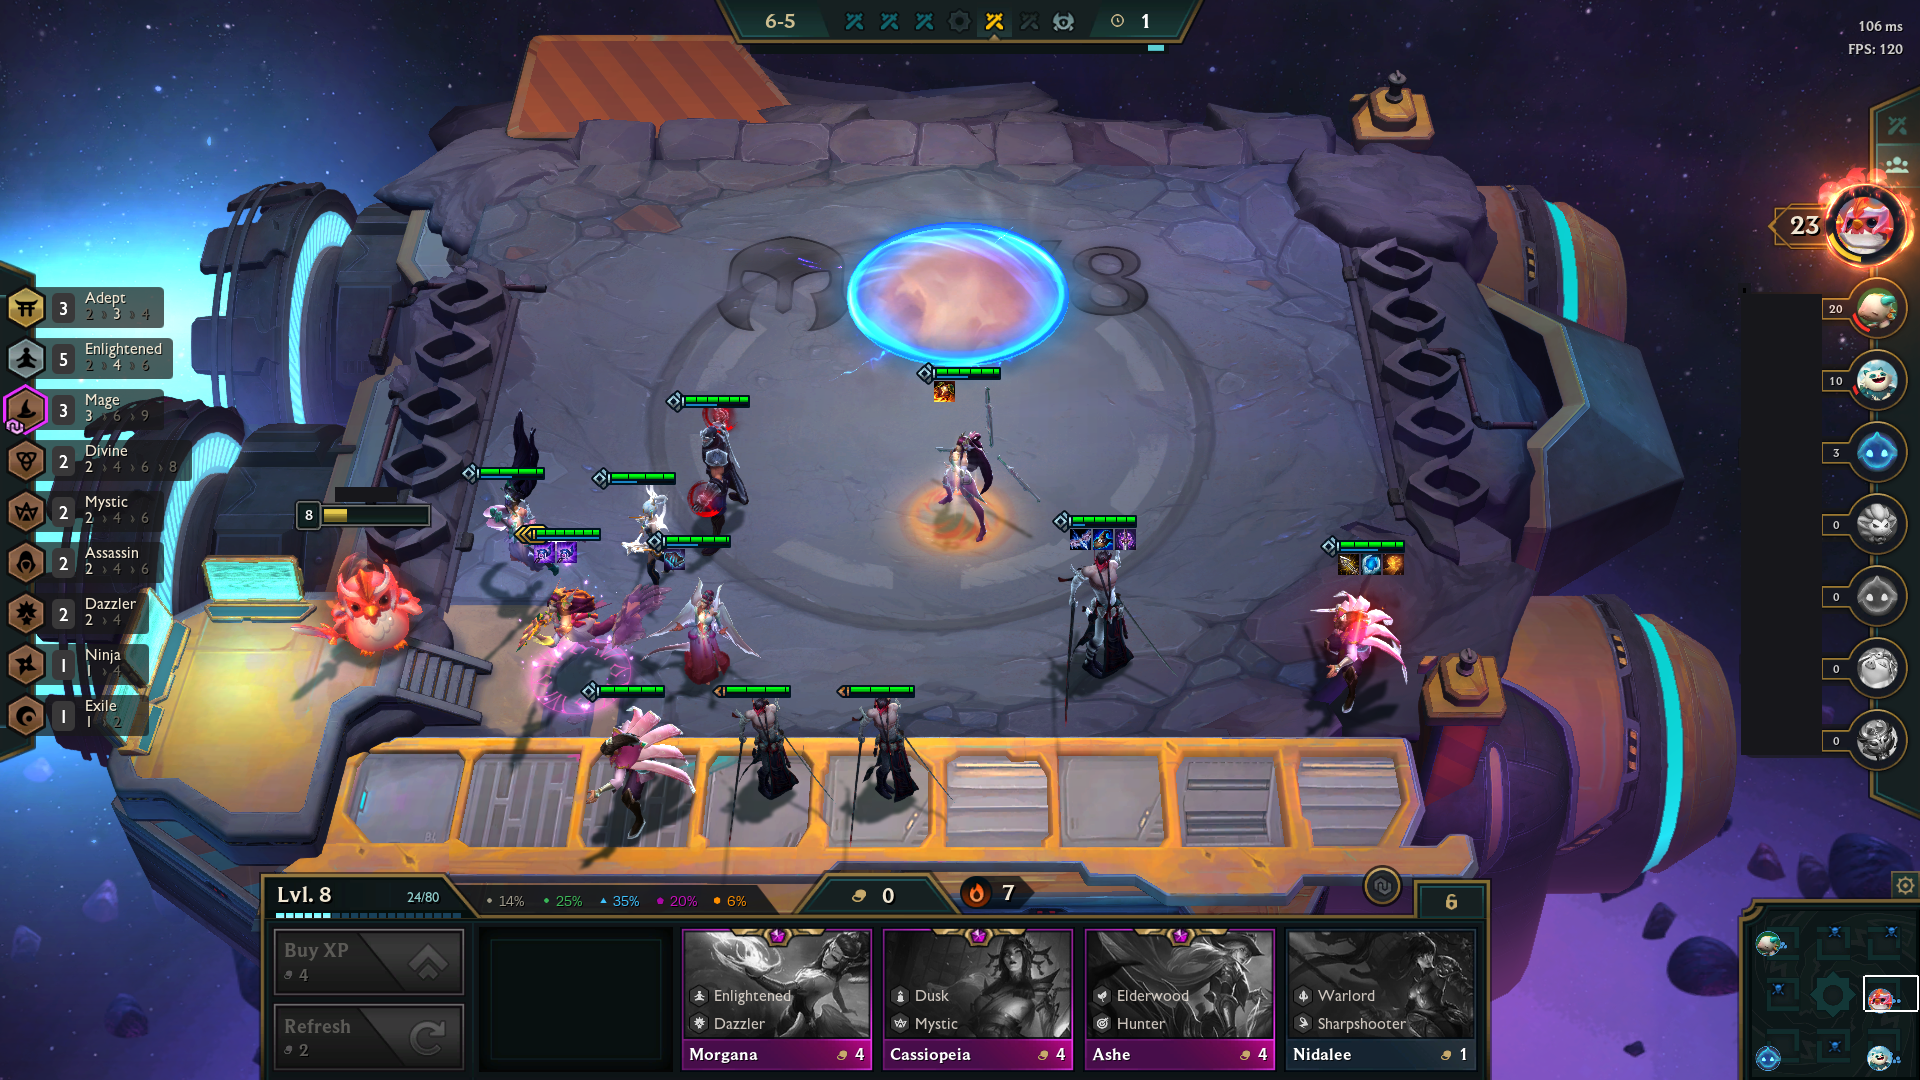1star_yone: (831, 676, 963, 849), (705, 678, 837, 851)
2star_irelia: (899, 349, 1052, 571)
2star_janna: (456, 406, 568, 609)
2star_lux: (584, 454, 692, 624)
2star_morgana: (633, 526, 774, 702)
2star_shen: (658, 381, 774, 570)
2star_talon: (1288, 524, 1435, 736), (571, 678, 702, 855)
2star_yone: (1042, 506, 1178, 735)
3star_nami: (502, 517, 676, 735)
3star_nami_chosen: (501, 516, 675, 732)
item_frozenheart: (1360, 551, 1383, 578)
item_hoj: (1382, 550, 1404, 578)
item_ie: (1336, 551, 1360, 578)
item_luden: (531, 539, 555, 566), (556, 539, 579, 566)
item_mage: (1092, 525, 1116, 553)
item_morello: (665, 541, 688, 572)
item_spark: (1069, 524, 1093, 551)
item_sunfire: (934, 378, 956, 406)
item_youmuu: (1114, 525, 1137, 553)
trait_adept3: (1, 282, 199, 334)
trait_assassin2: (1, 535, 199, 587)
trait_dazzler2: (1, 585, 199, 637)
trait_divine2: (1, 436, 199, 487)
trait_enlightened5: (1, 334, 199, 385)
trait_exile1: (1, 688, 199, 740)
trait_mage3: (1, 382, 199, 436)
trait_mage_chosen: (1, 380, 51, 435)
trait_mystic2: (1, 487, 199, 537)
trait_ninja1: (1, 640, 199, 690)
